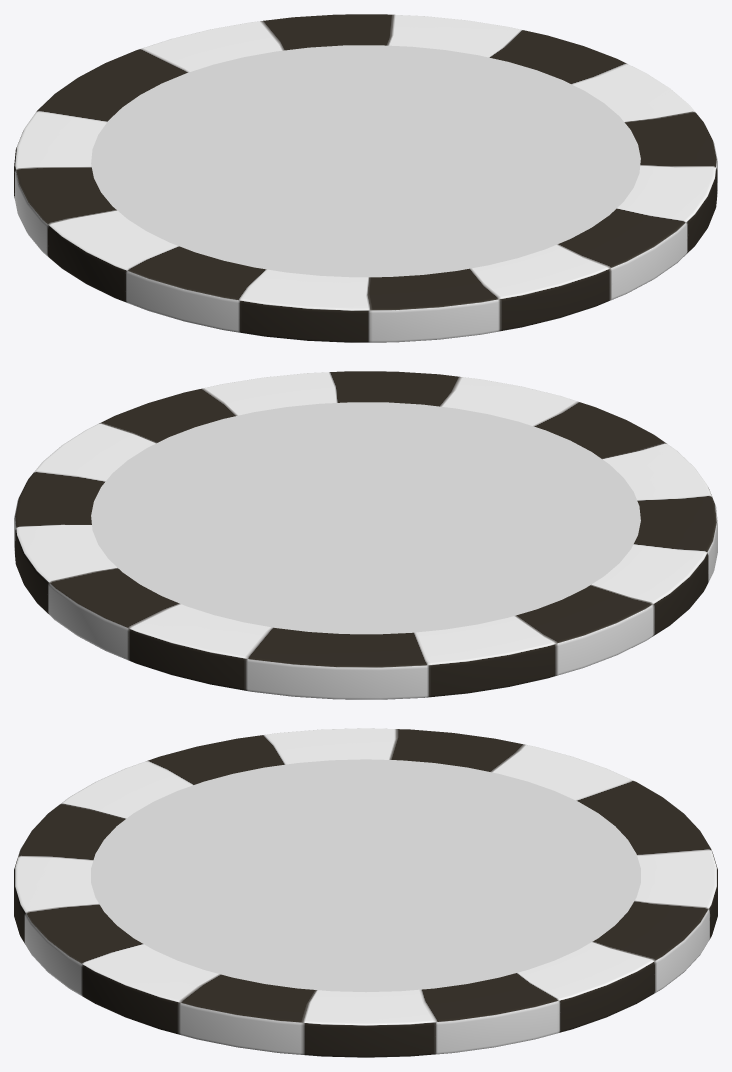
The model's file is CircleFinishFloor.fbx.
3 views of the same model, one above another, from view 1: azimuth 30°, elevation 25°; view 2: azimuth 150°, elevation 25°; view 3: azimuth 270°, elevation 25° (orthographic).
Visible parts, largest first — view 1: Cylinder; view 2: Cylinder; view 3: Cylinder.
Part boxes in pixels (bbox=[...]): Cylinder: bbox=[14, 14, 717, 342]; Cylinder: bbox=[14, 371, 717, 699]; Cylinder: bbox=[14, 728, 717, 1057].
Size of the model in its own units: 529 by 28.83 by 528.
Materials: 2 (1 with a texture image).
